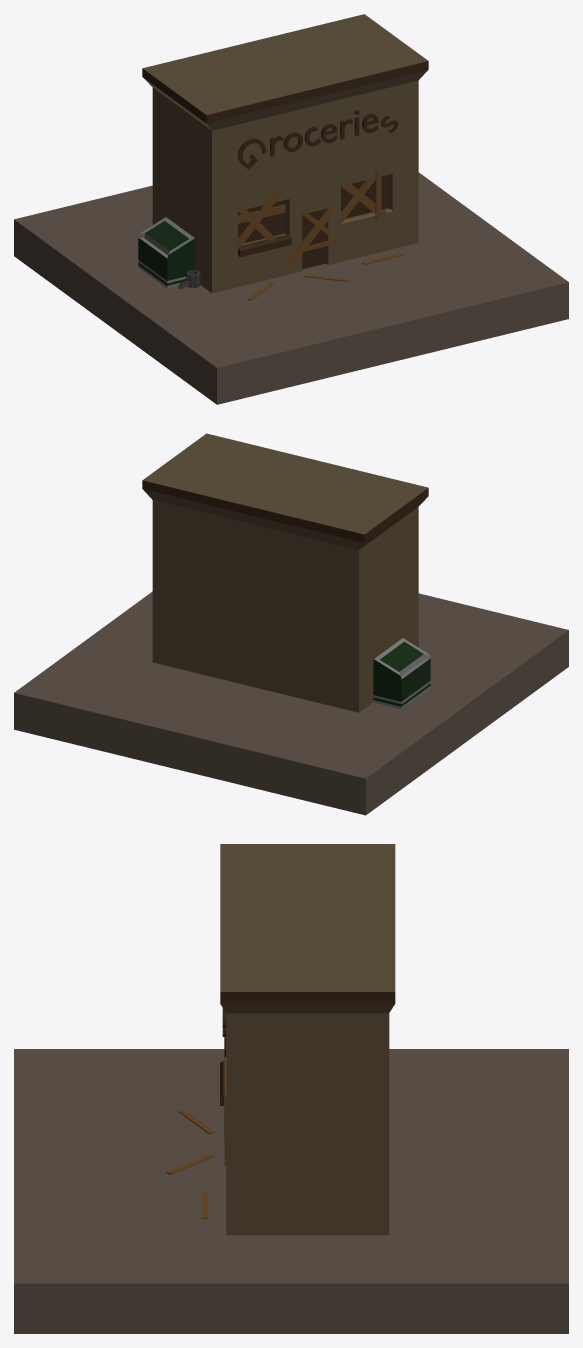
The model's file is shop-0.glb.
The picture shows the model from 3 angles, top to bottom: view 1: azimuth 30°, elevation 25°; view 2: azimuth 150°, elevation 25°; view 3: azimuth 270°, elevation 25°; orthographic projection. The views are drawn at different scales.
Parts seen in each view (by area): view 1: Grid.064; view 2: Grid.064; view 3: Grid.064.
Part boxes in pixels (box(x1,y1,x2,y2)): Grid.064: box(14, 14, 568, 404); Grid.064: box(14, 433, 568, 815); Grid.064: box(14, 844, 568, 1333).
Size of the model in its own units: 1 by 0.5936 by 1.
